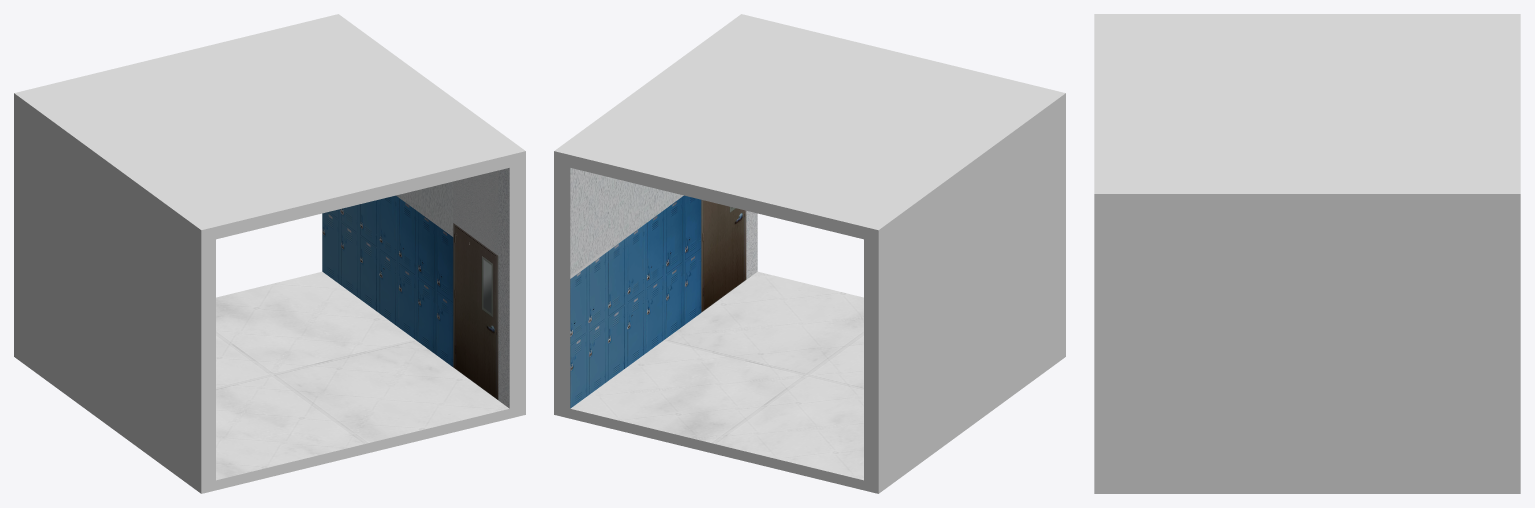
The model's file is schoolPath.fbx.
3 renders of one model, left to right at view 1: azimuth 30°, elevation 25°; view 2: azimuth 150°, elevation 25°; view 3: azimuth 270°, elevation 25°, orthographic. The views are drawn at different scales.
Visible parts, largest first — view 1: pCube4; view 2: pCube4; view 3: pCube4.
Part boxes in pixels (x1,y1,x2,y2): pCube4: (14, 14, 525, 493); pCube4: (554, 14, 1065, 493); pCube4: (1094, 14, 1520, 493).
Bounding box in the file's own units: 8.83 × 6.85 × 8.83.
1 material, 1 textured.
